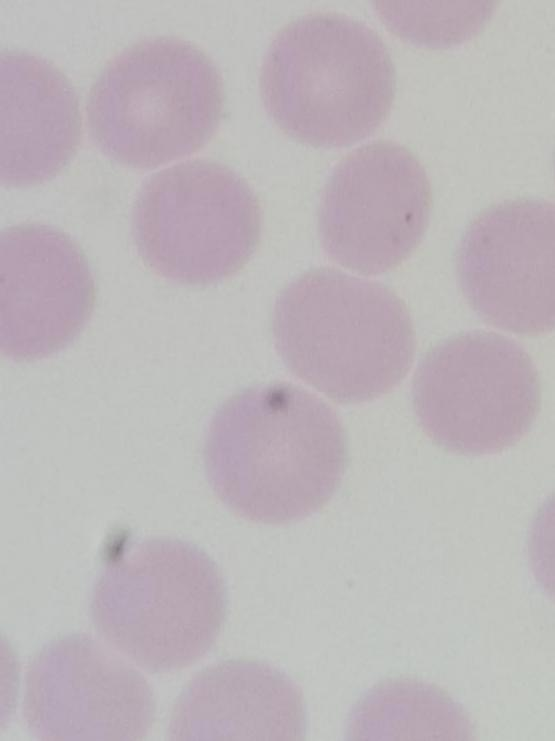Uninfected: (266, 263, 422, 406), (200, 387, 343, 524), (260, 17, 399, 152), (90, 41, 223, 170), (86, 545, 225, 668), (130, 161, 265, 286), (410, 335, 537, 460), (312, 145, 429, 277), (454, 201, 555, 344), (0, 221, 94, 361), (161, 653, 305, 741), (26, 635, 143, 741), (0, 53, 85, 193)
